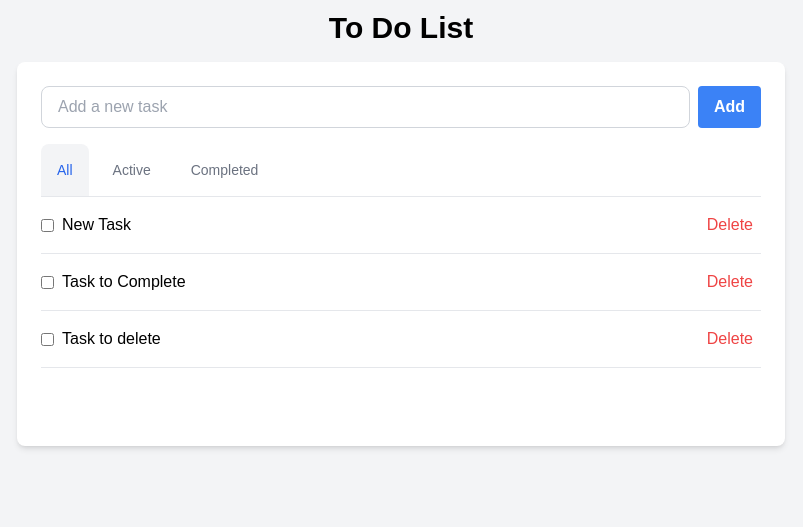
Test: TodoMain Component › filters todos correctly
The image size is (803, 527).
In the field with placeholder "Add a new task": (365, 107) x1=41 y1=86 x2=690 y2=128, type "Todo1"
Click the button "Add": (729, 107) x1=698 y1=86 x2=761 y2=128
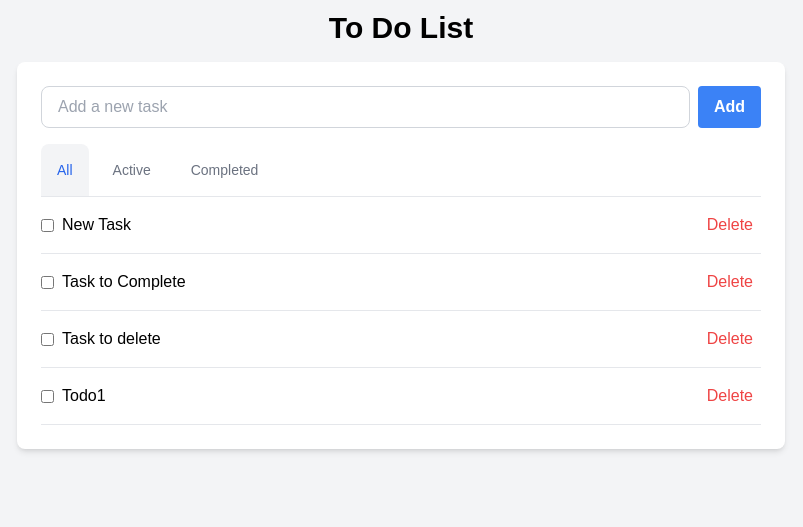
In the field with placeholder "Add a new task": (365, 107) x1=41 y1=86 x2=690 y2=128, type "todo2"
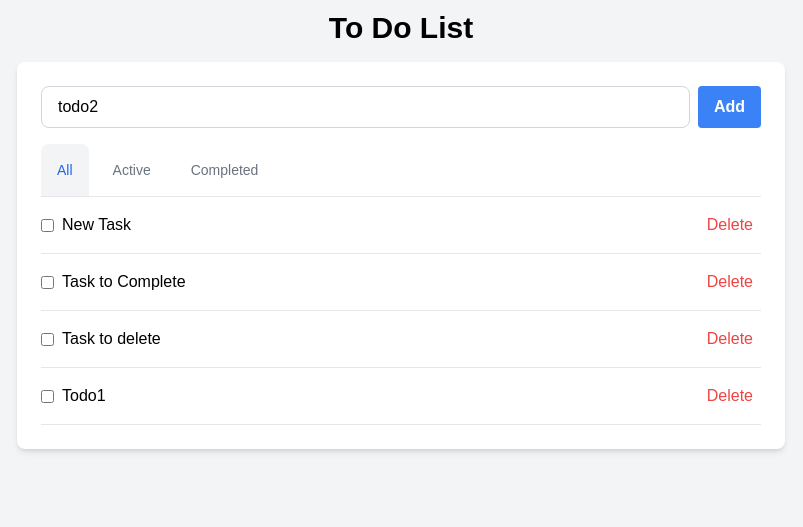
Click the button "Add": (729, 107) x1=698 y1=86 x2=761 y2=128
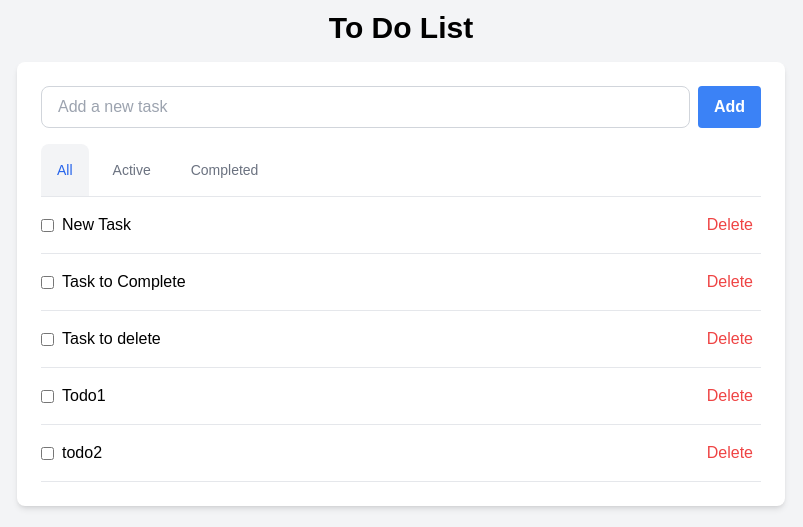
Click the checkbox labelled "todo2": (48, 453) x1=41 y1=446 x2=54 y2=460
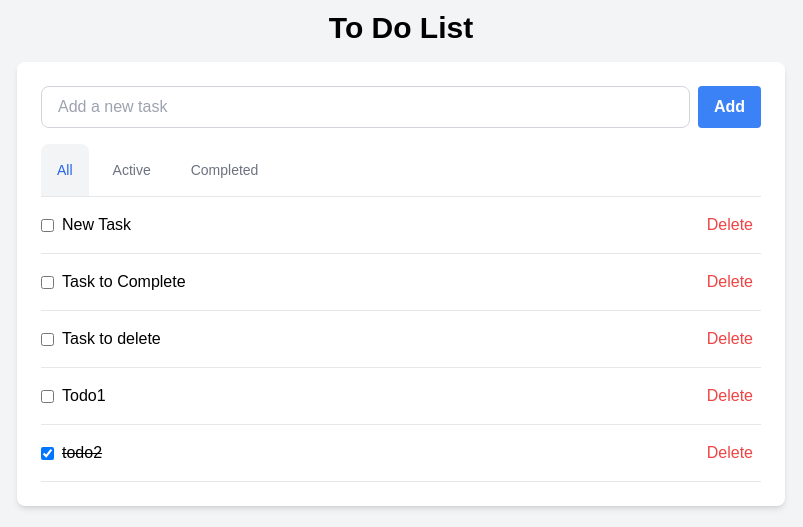
Expected: the text "todo2" is shown, x1=62 y1=441 x2=102 y2=465
Expected: the text "Todo1" is shown, x1=62 y1=384 x2=106 y2=408
Note: Filter Active
Click the link "Active": (132, 170) x1=113 y1=162 x2=151 y2=178
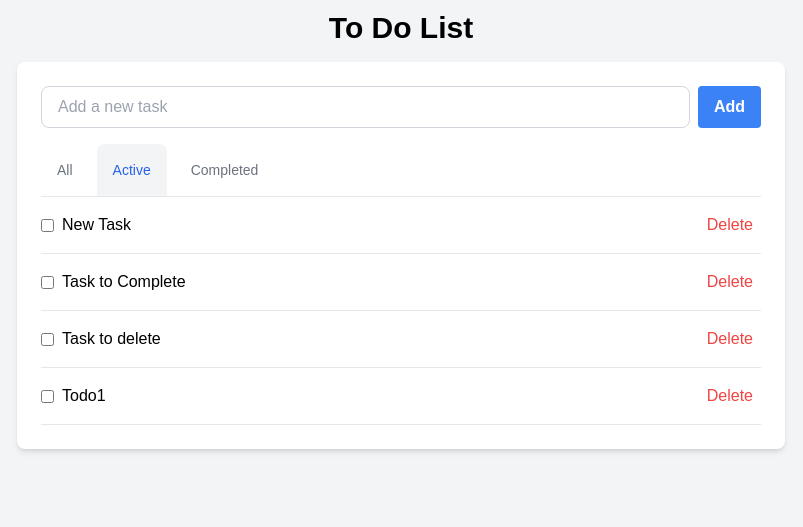
Expected: the text "Todo1" is shown, x1=62 y1=384 x2=106 y2=408
Expected: the text "todo2" is gone
Note: Filter Complited
Click the link "Completed": (225, 170) x1=191 y1=162 x2=258 y2=178
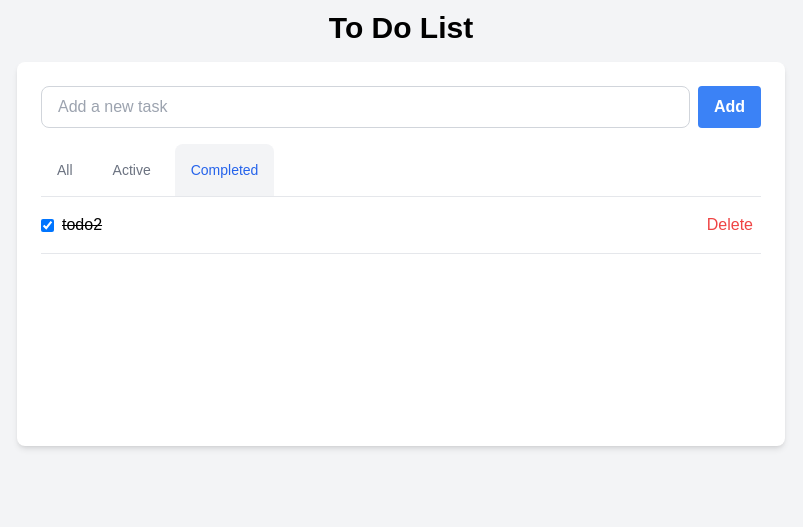
Expected: the text "todo2" is shown, x1=62 y1=213 x2=102 y2=237
Expected: the text "Todo1" is gone
